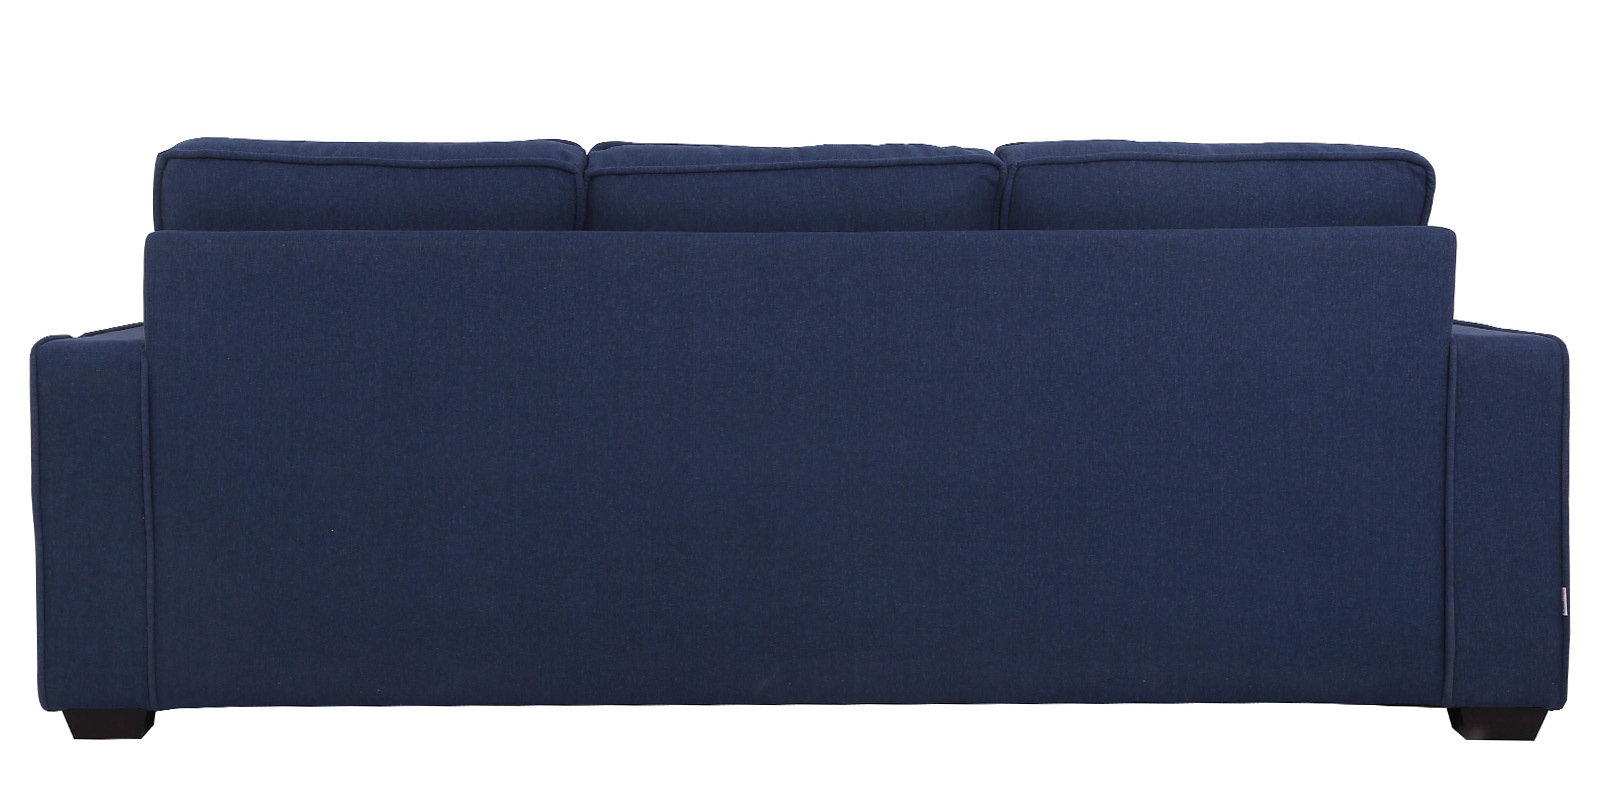Hugo Three Seater Sofa in Navy Blue Colour by CasaCraft: (22, 118, 1600, 758)
